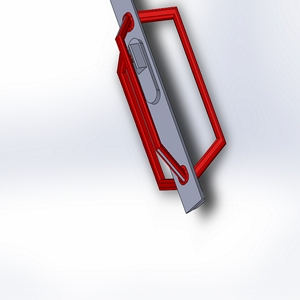submarine: (89, 1, 242, 230)
